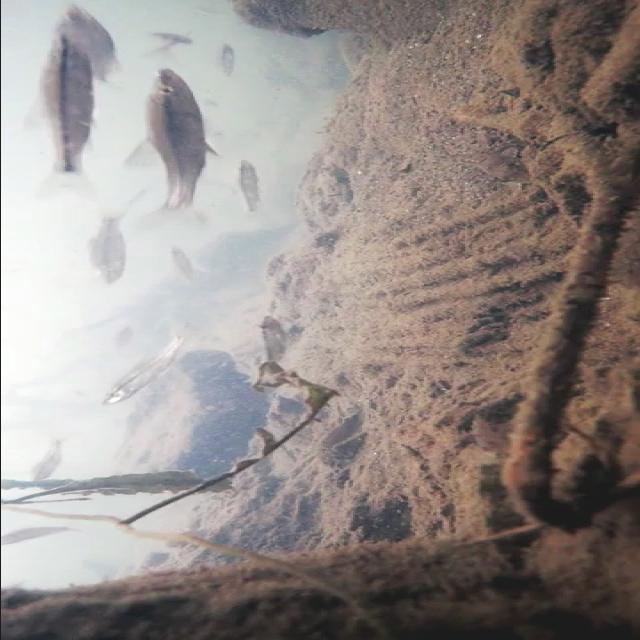Cakil Baligi: (130, 62, 217, 230), (21, 34, 102, 208), (94, 331, 194, 409)
